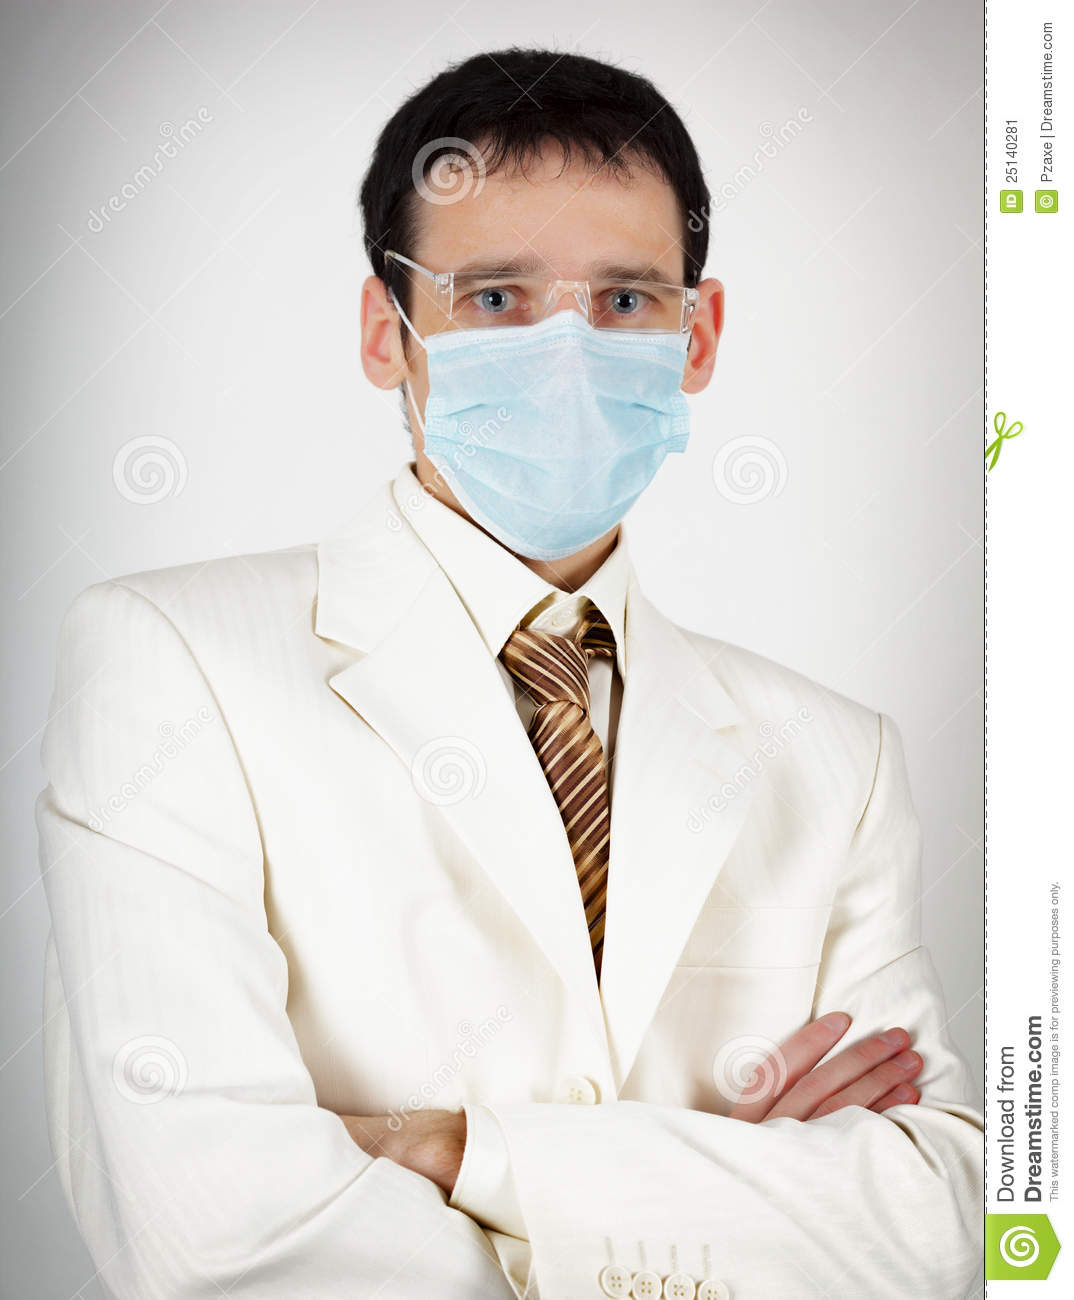mask: (420, 310, 696, 569)
